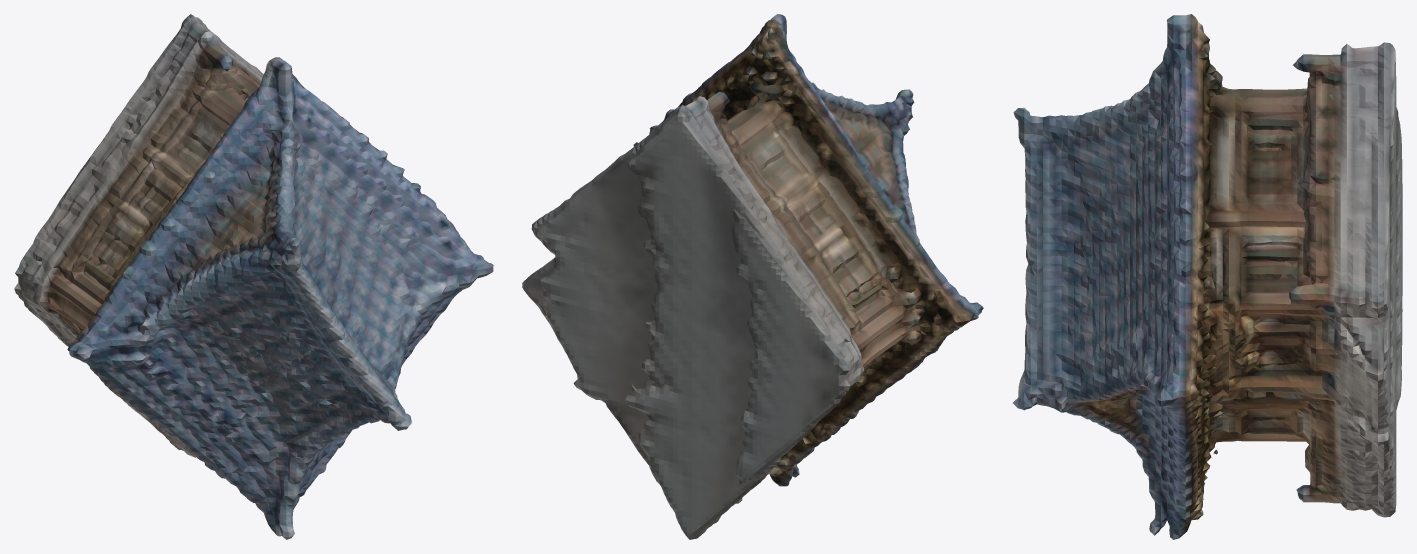
The model's file is shrine_01_concept_raw.glb.
The picture shows the model from 3 angles, left to right: view 1: azimuth 30°, elevation 25°; view 2: azimuth 150°, elevation 25°; view 3: azimuth 270°, elevation 25°; orthographic projection. The views are drawn at different scales.
Parts seen in each view (by area): view 1: world; view 2: world; view 3: world.
Part boxes in pixels (x1,y1,x2,y2): world: (14, 14, 493, 539); world: (522, 14, 983, 539); world: (1013, 14, 1402, 539).
Bounding box in the file's own units: 1.16 × 1.28 × 0.8623.
